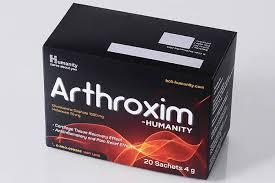Cardboard: (28, 3, 271, 183)
